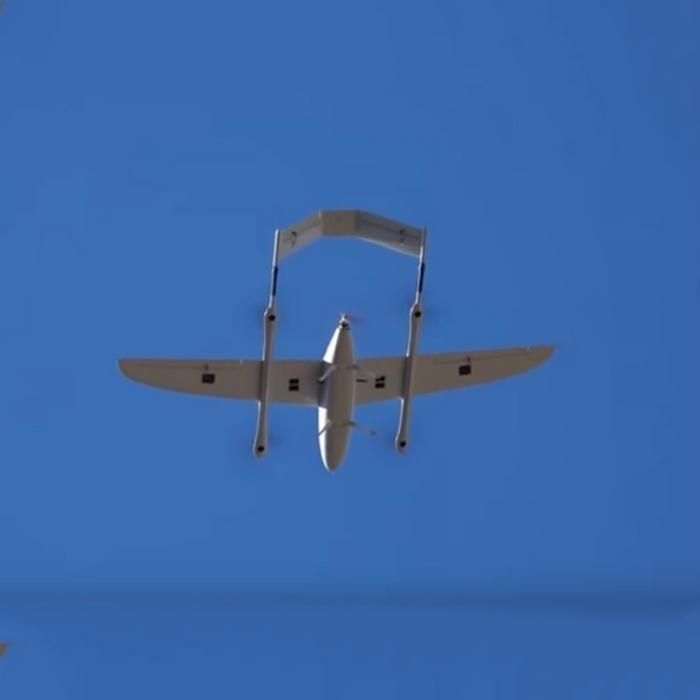Airplane: (105, 166, 565, 499)
